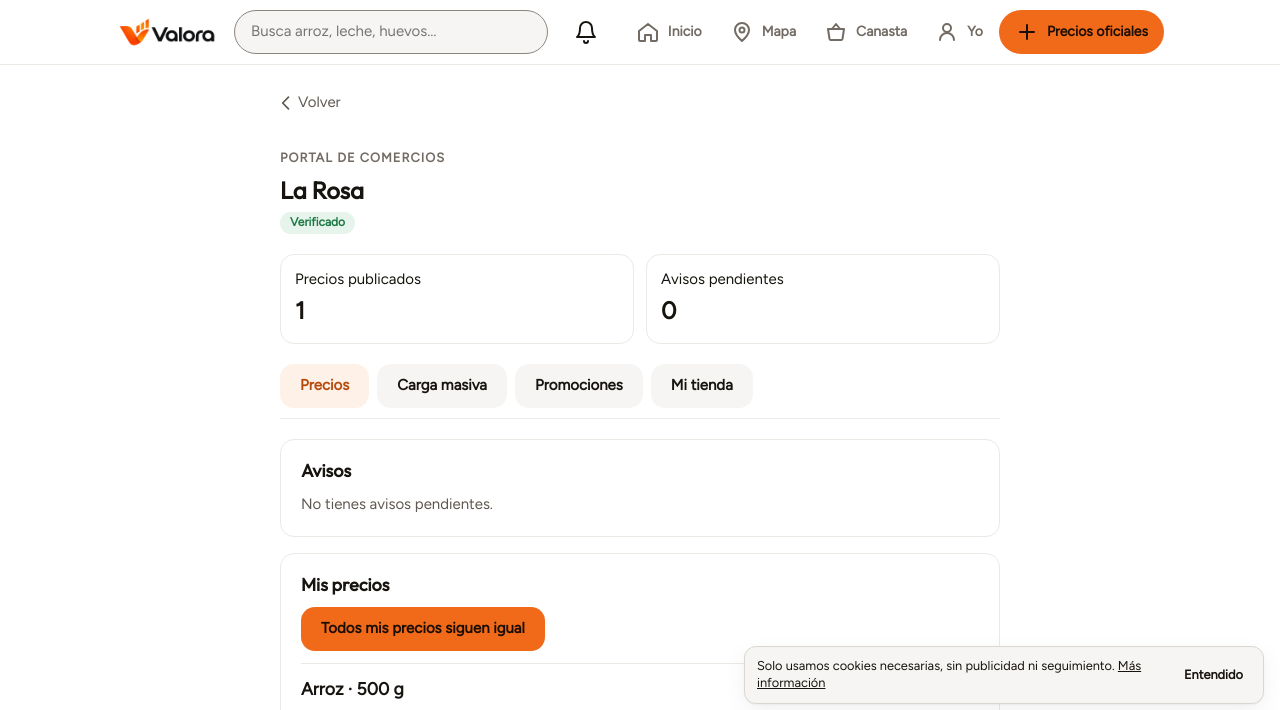
Test: panel de precios oficiales (#166) › reconfirma el conjunto solo después de confirmarlo y vuelve a consultar los precios y los avisos
Click the button "Todos mis precios siguen igual".
click(423, 629)  # box [301,607,545,651]
(page scrolled)
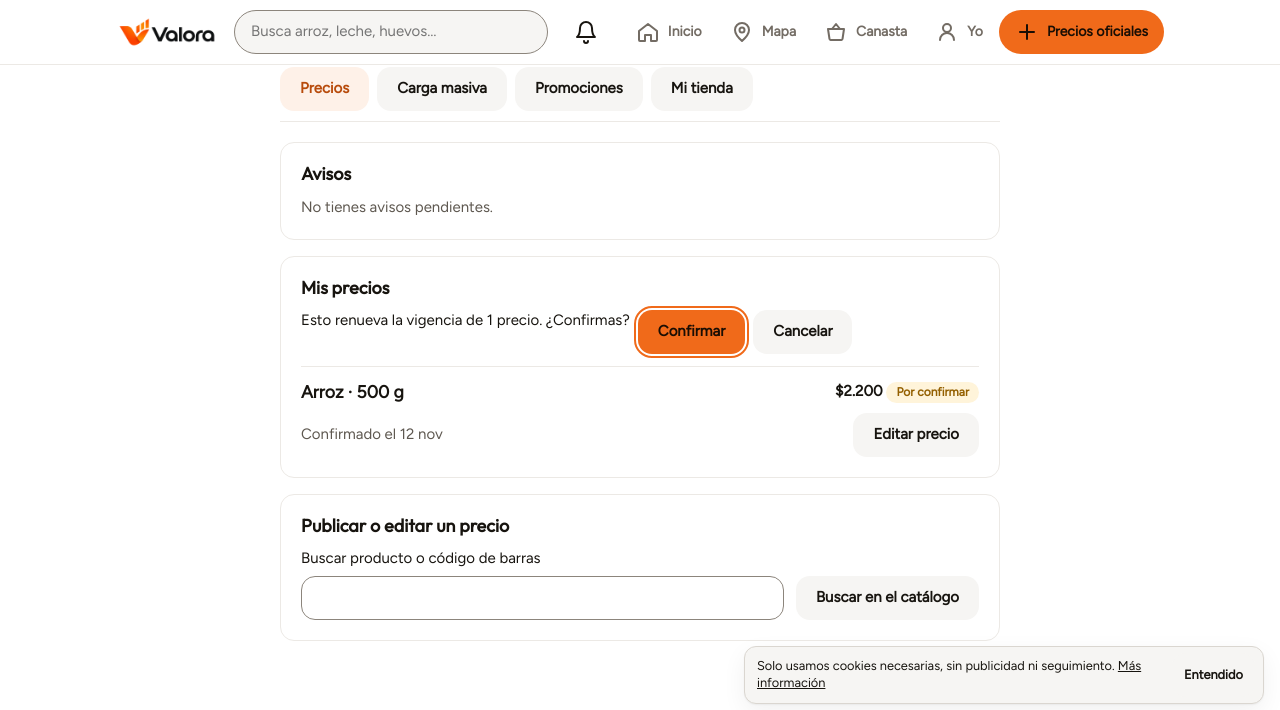
ADR-043: la campana del encabezado también consulta los avisos del comercio al abrir la app.
Click the button "Confirmar".
click(692, 332)  # box [638,310,745,354]
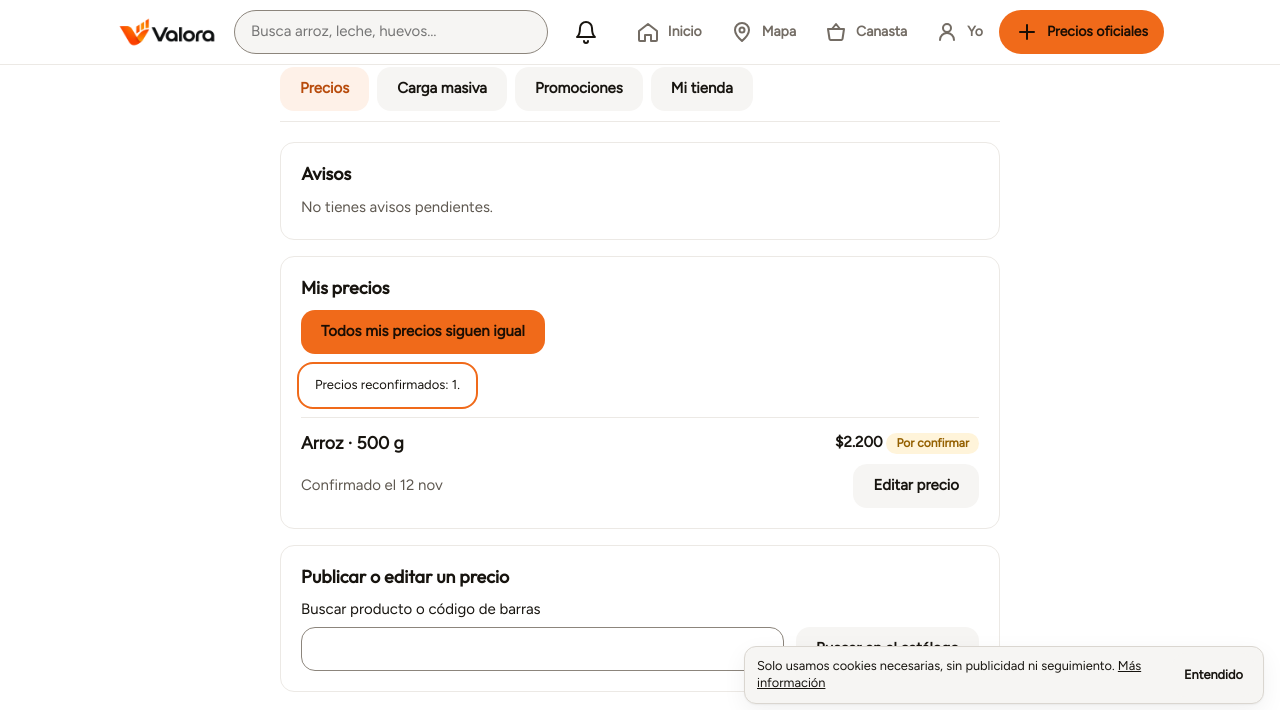
Result: the text "Precios reconfirmados: 1." is shown at [315,377,460,392]
